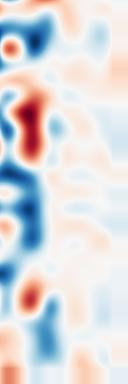filament: (6, 85, 53, 170)
